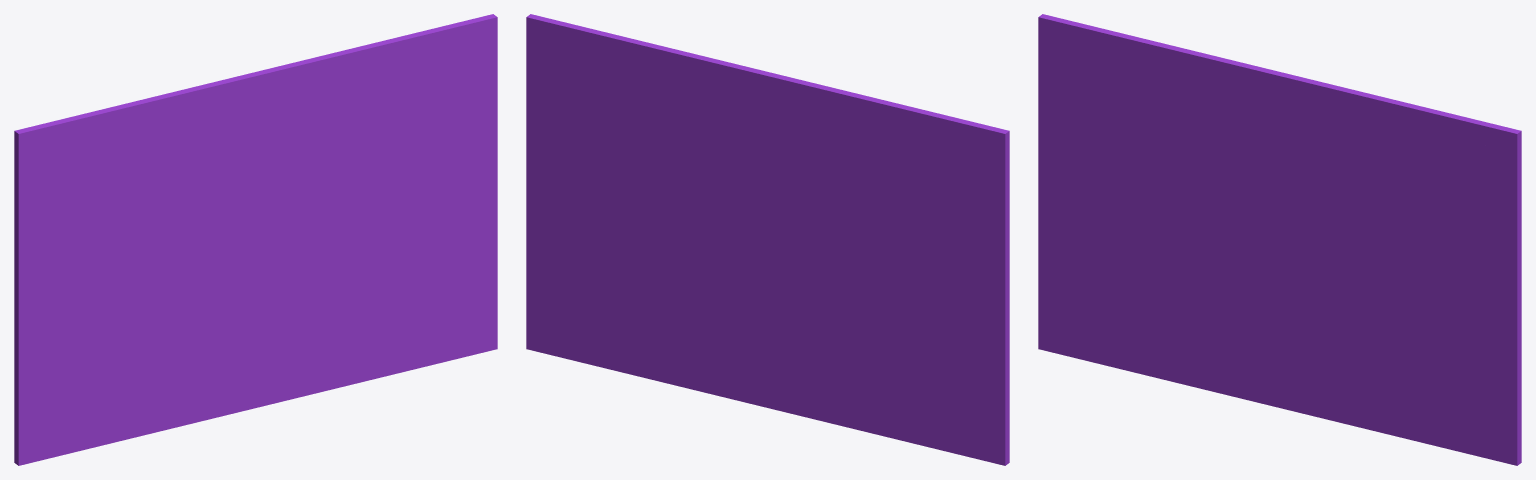
File: Glass_97_chunks.fbx
3 views of the same model, side by side, from view 1: azimuth 30°, elevation 25°; view 2: azimuth 150°, elevation 25°; view 3: azimuth 330°, elevation 25° (orthographic).
Parts seen in each view (by area): view 1: Glass_97_2, Glass_97_0, Glass_97_5, Glass_97_3, Glass_97_6, Glass_97_4; view 2: Glass_97_2, Glass_97_0, Glass_97_5, Glass_97_3, Glass_97_6, Glass_97_4, Glass_97_1; view 3: Glass_97_2, Glass_97_0, Glass_97_5, Glass_97_3, Glass_97_6, Glass_97_4.
Part boxes in pixels (x1=…): Glass_97_2: x1=259, y1=14, x2=497, y2=402; Glass_97_0: x1=14, y1=174, x2=275, y2=465; Glass_97_5: x1=201, y1=16, x2=492, y2=222; Glass_97_3: x1=14, y1=109, x2=202, y2=222; Glass_97_6: x1=103, y1=62, x2=295, y2=156; Glass_97_4: x1=187, y1=172, x2=278, y2=241; Glass_97_2: x1=526, y1=14, x2=765, y2=403; Glass_97_0: x1=749, y1=175, x2=1009, y2=465; Glass_97_5: x1=535, y1=15, x2=813, y2=209; Glass_97_3: x1=825, y1=108, x2=1009, y2=220; Glass_97_6: x1=724, y1=64, x2=916, y2=160; Glass_97_4: x1=734, y1=156, x2=843, y2=233; Glass_97_1: x1=759, y1=222, x2=835, y2=247; Glass_97_2: x1=1278, y1=129, x2=1521, y2=465; Glass_97_0: x1=1038, y1=62, x2=1295, y2=411; Glass_97_5: x1=1221, y1=82, x2=1512, y2=232; Glass_97_3: x1=1038, y1=14, x2=1222, y2=187; Glass_97_6: x1=1131, y1=35, x2=1322, y2=128; Glass_97_4: x1=1206, y1=145, x2=1298, y2=242.
Size of the model in its own units: 1728 by 1144 by 27.2.
